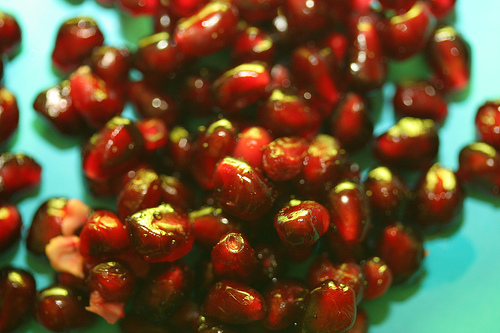pomogranate: (2, 1, 499, 332)
